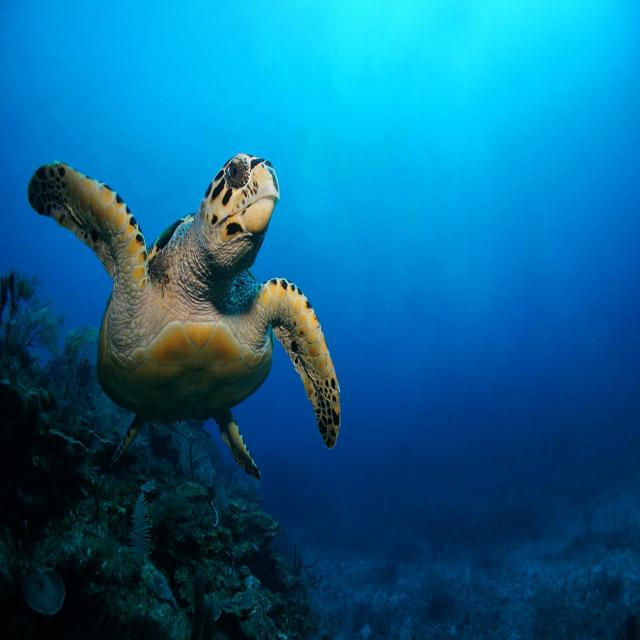turtle: (28, 154, 340, 479)
